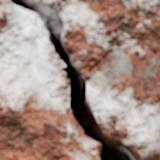broken_brick: (44, 0, 159, 155), (0, 4, 99, 159), (146, 153, 159, 159)
crack: (0, 0, 159, 159)
